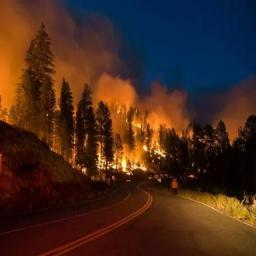Large fire: (0, 90, 197, 186)
Low smoke: (0, 0, 255, 187)
